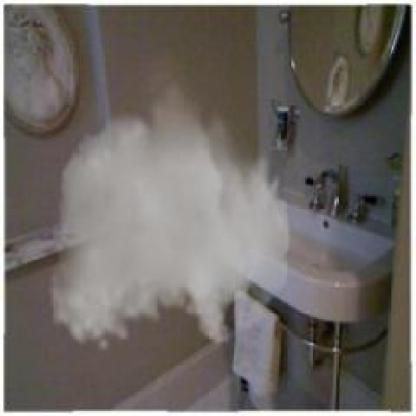Smoke: (48, 78, 290, 354)
